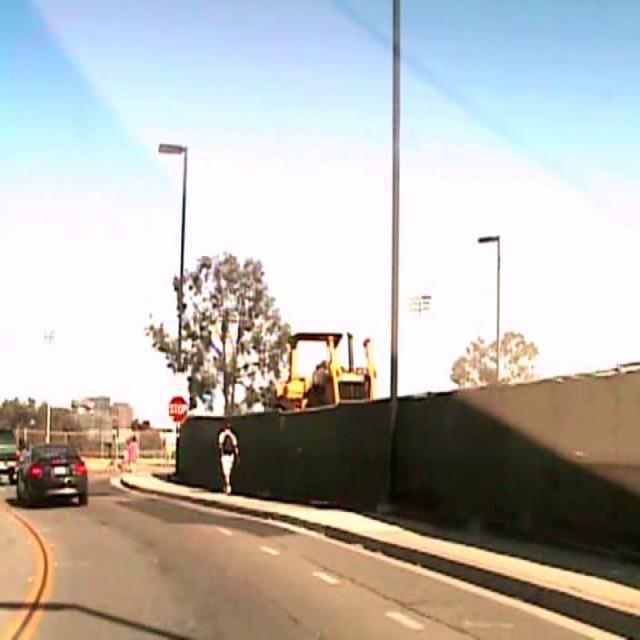stop: (168, 394, 187, 422)
